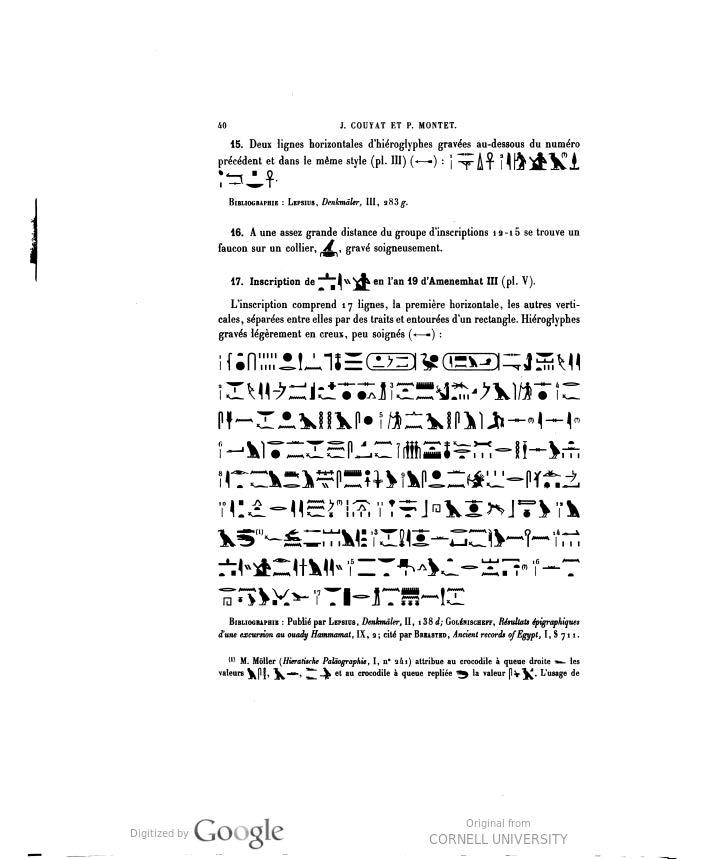circle: (365, 341, 427, 384), (437, 341, 505, 377)
